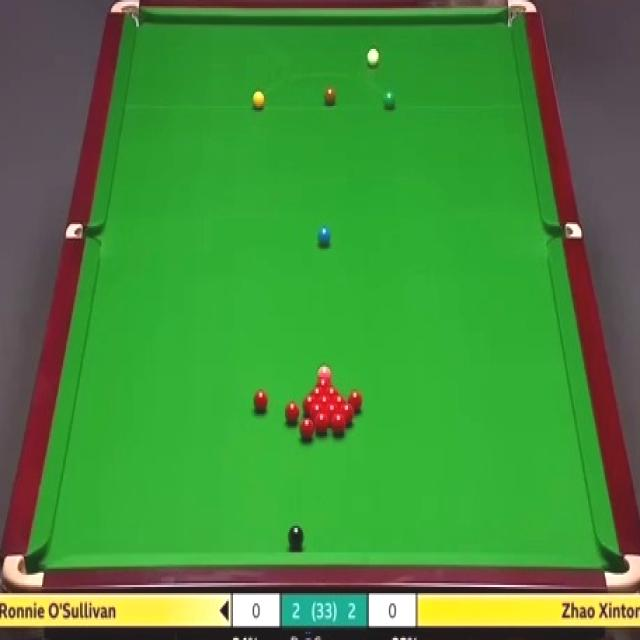black-ball: (286, 522, 304, 547)
blue-ball: (317, 227, 332, 245)
brown-ball: (325, 88, 336, 106)
green-ball: (382, 88, 397, 111)
pink-ball: (317, 368, 333, 383)
red-ball: (299, 417, 314, 443), (252, 389, 268, 412), (284, 400, 300, 422), (332, 412, 348, 434), (339, 403, 355, 425), (303, 394, 318, 416), (313, 413, 329, 432), (349, 392, 362, 412), (327, 385, 340, 404), (310, 386, 326, 399)
white-ball: (367, 48, 379, 65)
yellow-ball: (252, 90, 265, 110)
